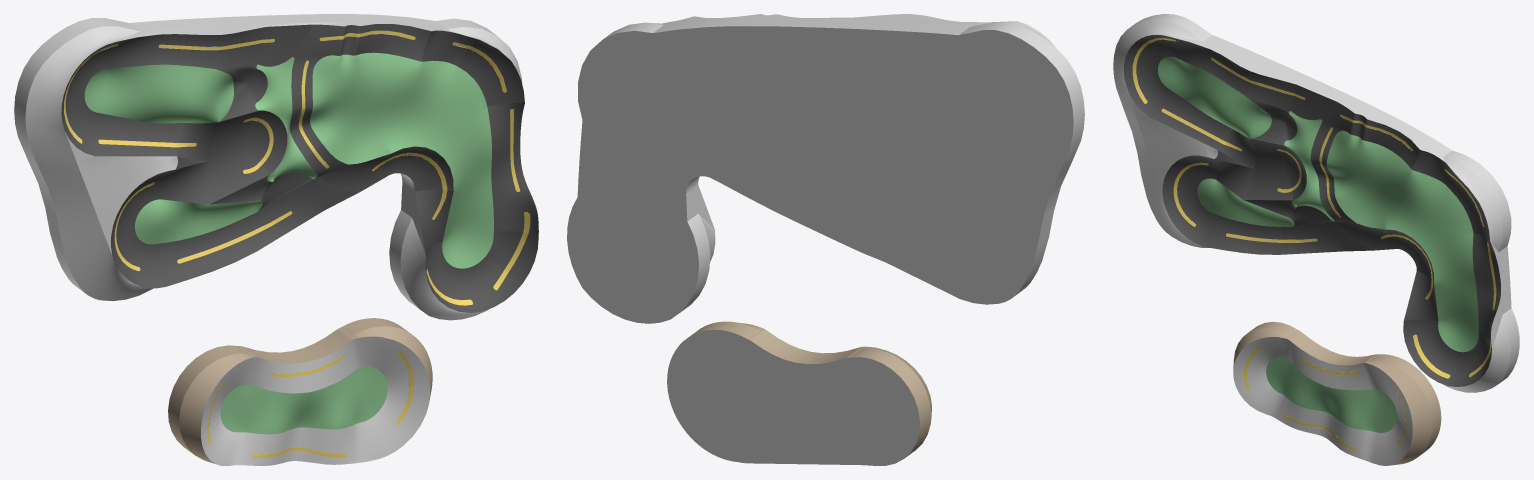
File: 3d-vr-meta-nft-bmx-racing-track.glb
3 renders of one model, left to right at view 1: azimuth 30°, elevation 25°; view 2: azimuth 150°, elevation 25°; view 3: azimuth 330°, elevation 25°, orthographic. The views are drawn at different scales.
Parts seen in each view (by area): view 1: Body874, Body873, Body898; view 2: Body874, Body873; view 3: Body874, Body873.
Part boxes in pixels (<box>): Body874: <box>14,14,538,320</box>; Body873: <box>168,318,432,465</box>; Body898: <box>177,211,292,263</box>; Body874: <box>567,14,1084,323</box>; Body873: <box>667,321,931,465</box>; Body874: <box>1113,14,1519,392</box>; Body873: <box>1233,321,1441,465</box>.
Size of the model in its own units: 779 by 729 by 71.6.
